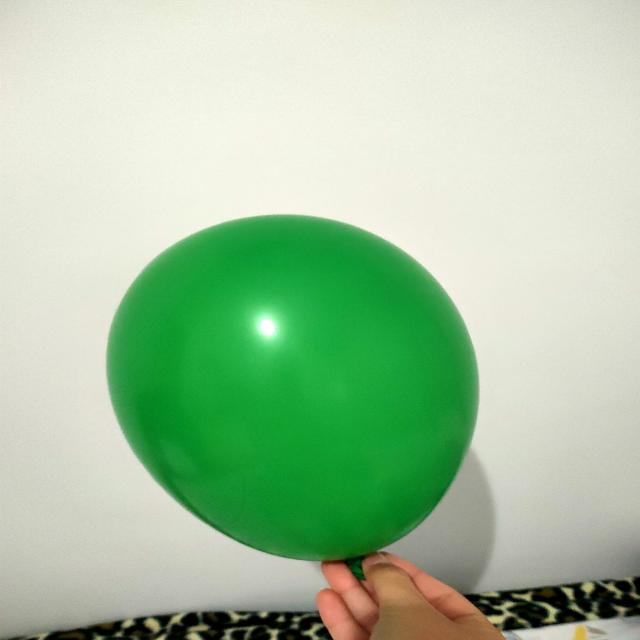green: (106, 213, 477, 563)
